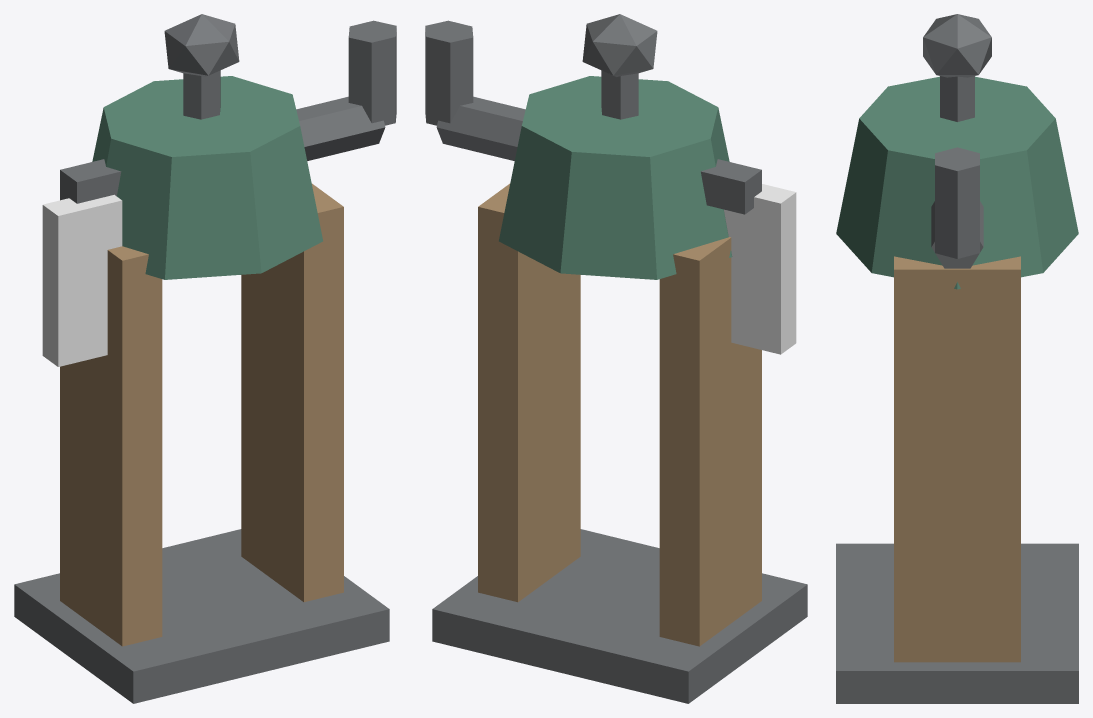
Rendered from ball_washer_03.glb.
3 views of the same model, side by side, from view 1: azimuth 30°, elevation 25°; view 2: azimuth 150°, elevation 25°; view 3: azimuth 270°, elevation 25° (orthographic).
Visible parts, largest first — view 1: Ball_washer_03; view 2: Ball_washer_03; view 3: Ball_washer_03.
Boxes of the visible parts, x1=… form: Ball_washer_03: x1=14, y1=14, x2=396, y2=703; Ball_washer_03: x1=425, y1=14, x2=807, y2=703; Ball_washer_03: x1=836, y1=14, x2=1078, y2=703.
Bounding box in the file's own units: 0.6859 × 1.14 × 0.3991.
